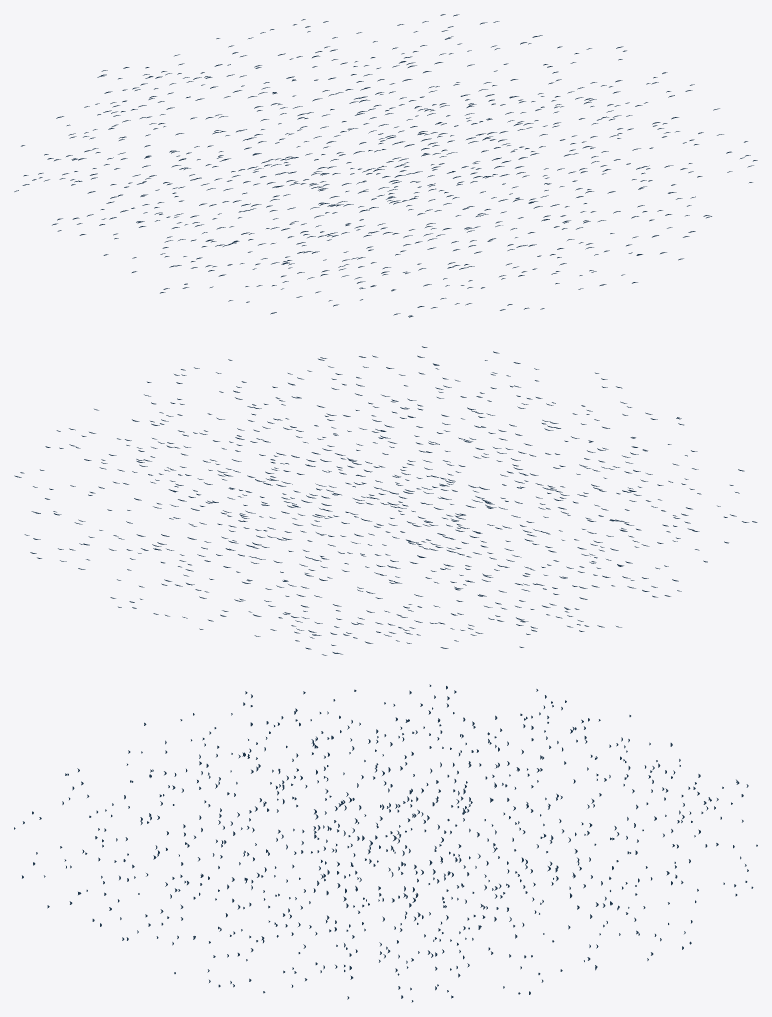
The model's file is gust.glb.
The picture shows the model from 3 angles, top to bottom: view 1: azimuth 30°, elevation 25°; view 2: azimuth 150°, elevation 25°; view 3: azimuth 270°, elevation 25°; orthographic projection. The views are drawn at different scales.
Visible parts, largest first — view 1: gust_body; view 2: gust_body; view 3: gust_body.
Boxes of the visible parts, x1,y1,x2,y2 form: gust_body: (14,14,757,317); gust_body: (14,346,757,655); gust_body: (14,684,757,1002).
Size of the model in its own units: 1.75 by 0.002 by 1.73.
Materials: 1 (1 with a texture image).
